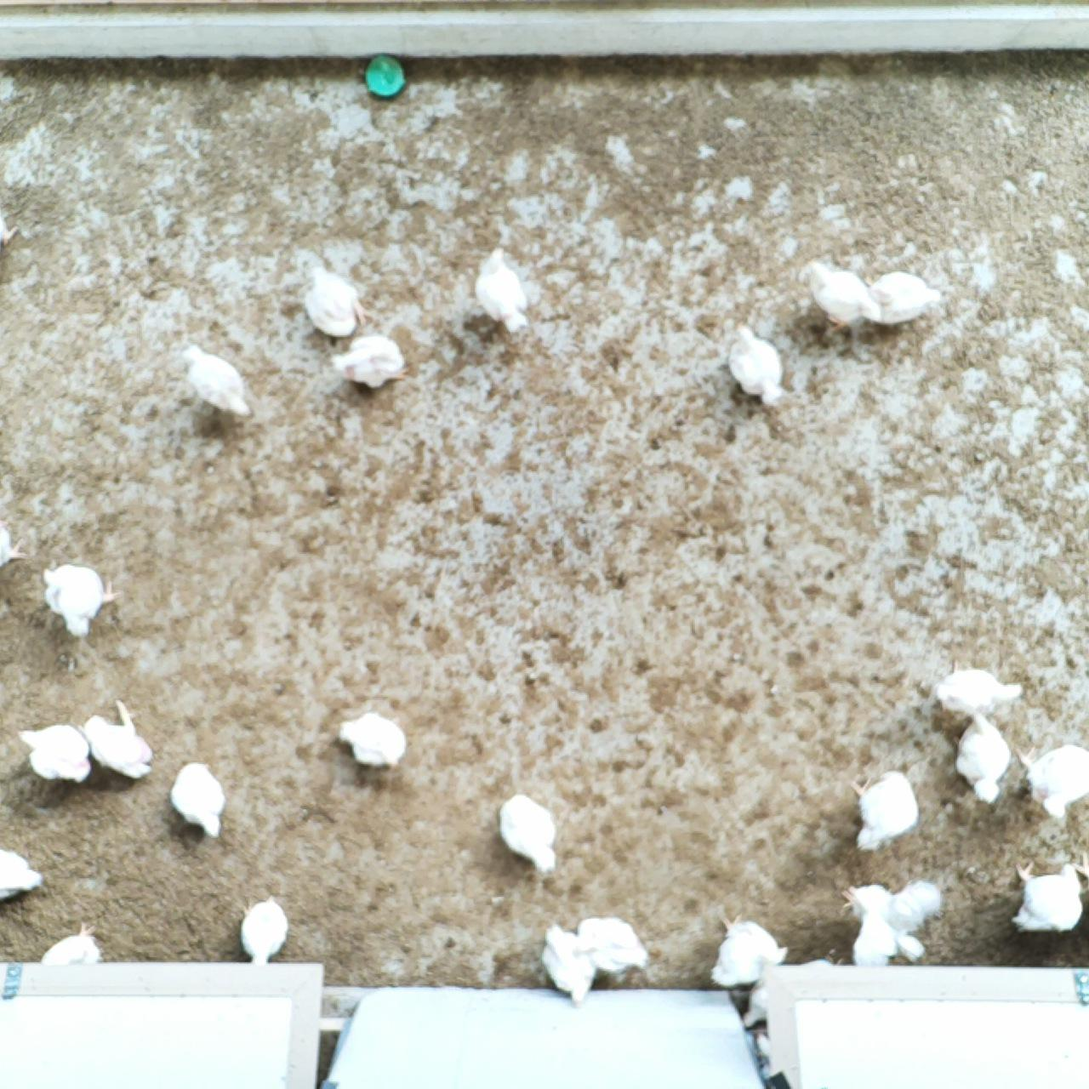chicken: (843, 881, 943, 975), (844, 766, 921, 856), (38, 557, 119, 641), (176, 338, 254, 423), (82, 694, 155, 783), (708, 910, 787, 991), (1007, 854, 1086, 934), (798, 257, 881, 332), (951, 705, 1013, 805), (1013, 741, 1089, 822), (470, 241, 534, 335), (723, 316, 785, 408), (493, 793, 562, 875), (933, 663, 1028, 721), (300, 262, 371, 339), (536, 921, 598, 1005), (865, 261, 944, 326), (329, 332, 414, 392), (571, 916, 654, 976), (170, 758, 229, 841), (18, 722, 90, 786), (336, 708, 408, 770), (237, 892, 291, 966), (742, 963, 789, 1028), (39, 920, 102, 967), (0, 844, 46, 904), (0, 518, 27, 569)
